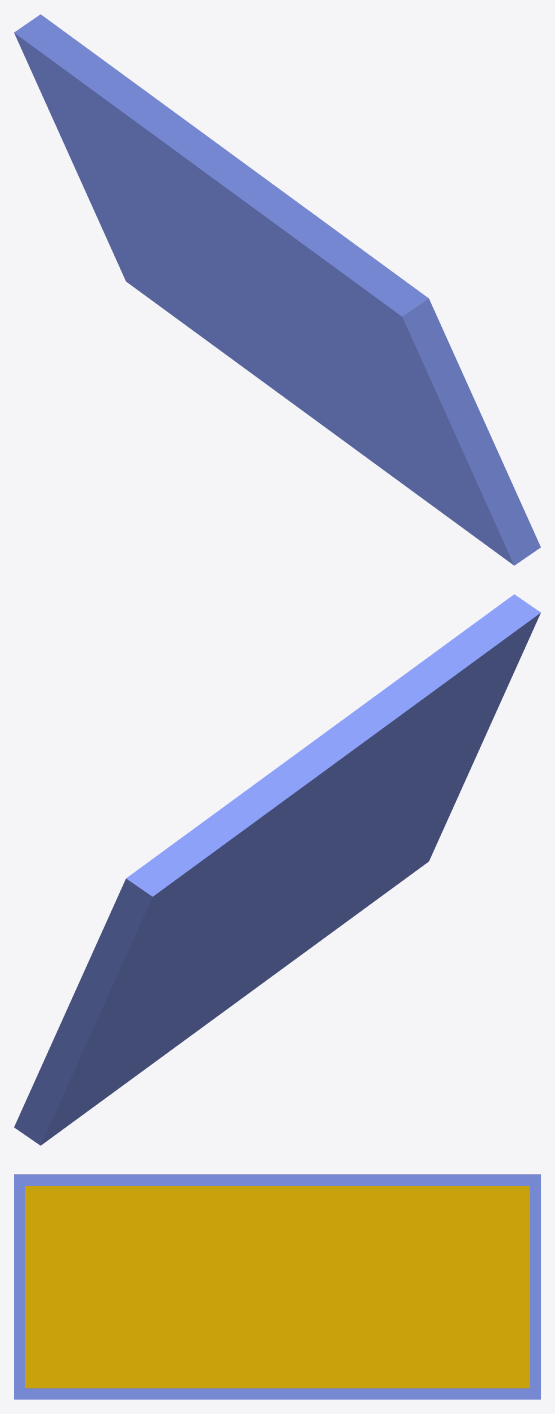
Rendered from Shelf_01_Label.glb.
The picture shows the model from 3 angles, top to bottom: view 1: azimuth 30°, elevation 25°; view 2: azimuth 150°, elevation 25°; view 3: azimuth 270°, elevation 25°; orthographic projection. The views are drawn at different scales.
Parts seen in each view (by area): view 1: Mesh_Shelf_01_Label; view 2: Mesh_Shelf_01_Label; view 3: Mesh_Shelf_01_Label.
Boxes of the visible parts, <box> form: Mesh_Shelf_01_Label: <box>14,14,540,565</box>; Mesh_Shelf_01_Label: <box>14,594,540,1145</box>; Mesh_Shelf_01_Label: <box>14,1174,540,1399</box>.
Size of the model in its own units: 0.0228 by 0.0452 by 0.1104.
1 material, 1 textured.
